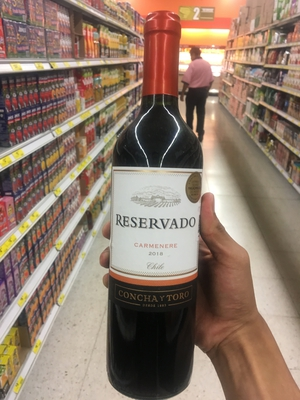reservado carmenere: (106, 12, 204, 391)
